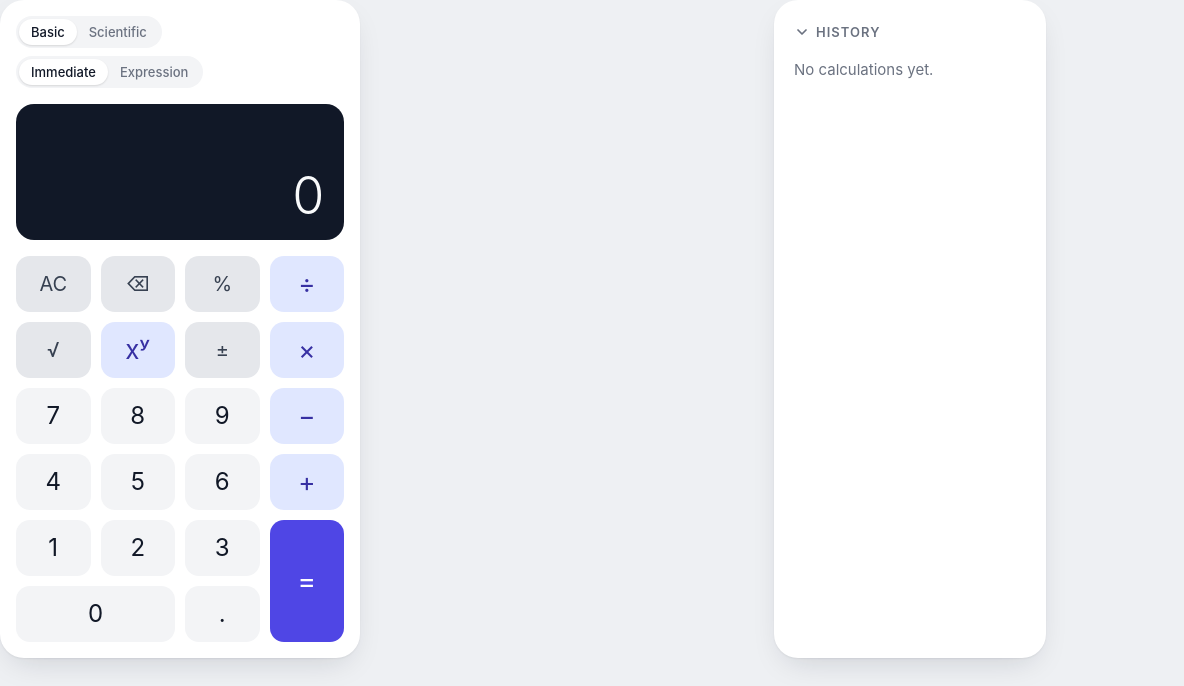
Scenario: Calculator › computes scientific functions in immediate mode
Step 1. Click the radio button labelled "Scientific" → x=118, y=32, box [77,19,159,45]
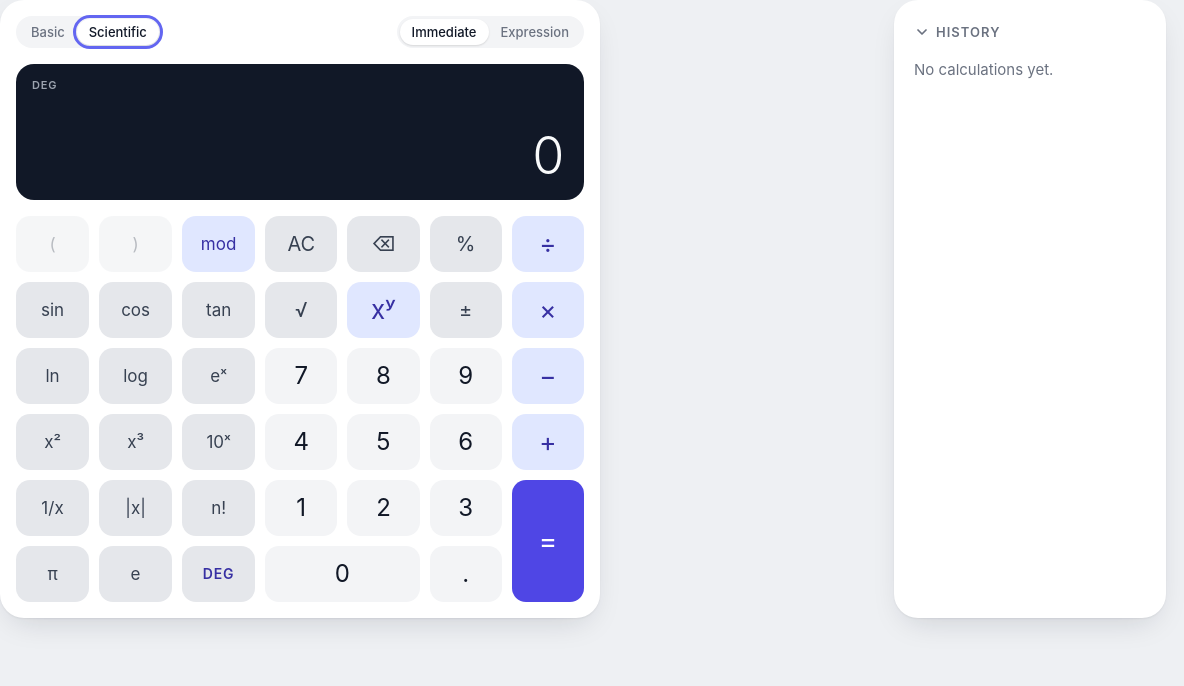
Step 2. Click the button "3" → x=466, y=508, box [430,480,502,536]
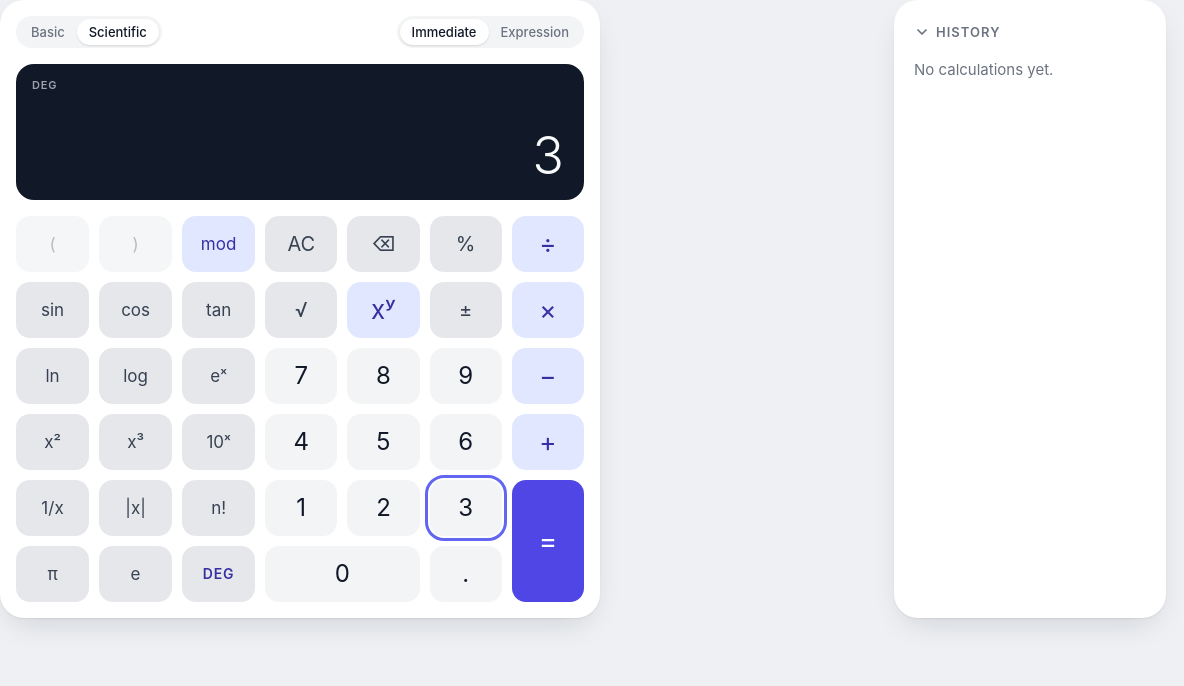
Step 3. Click the button "0" → x=342, y=574, box [265,546,420,602]
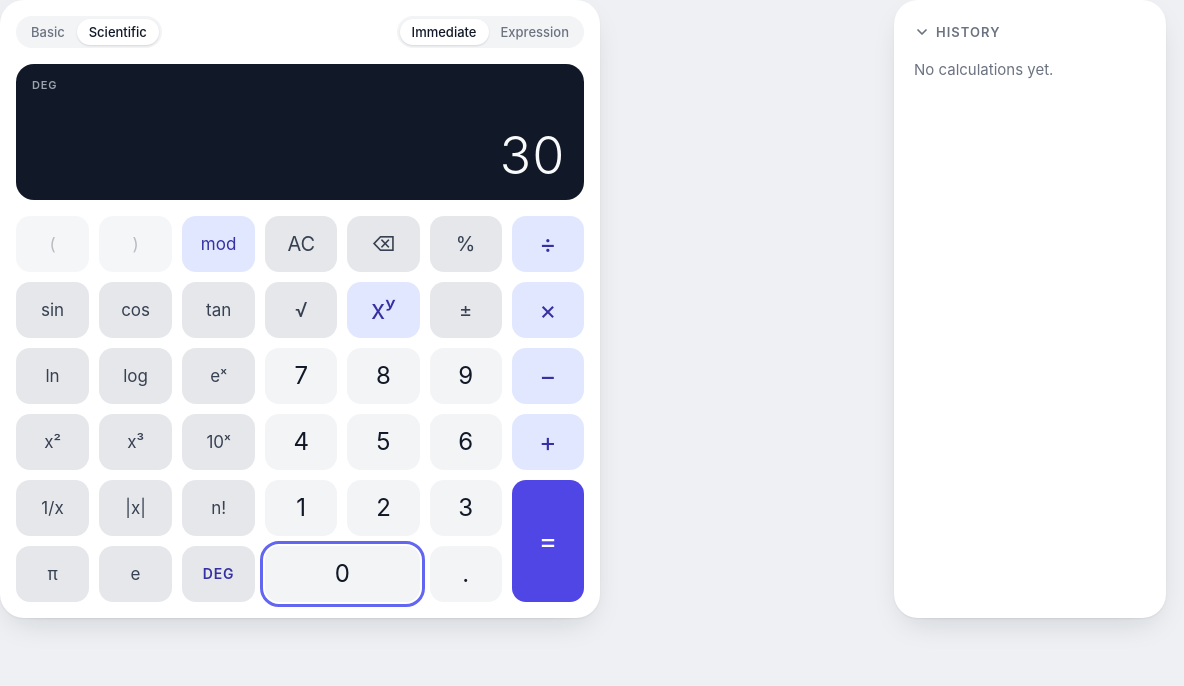
Step 4. Click the button with aria-label "Sine" → x=52, y=310, box [16,282,89,338]
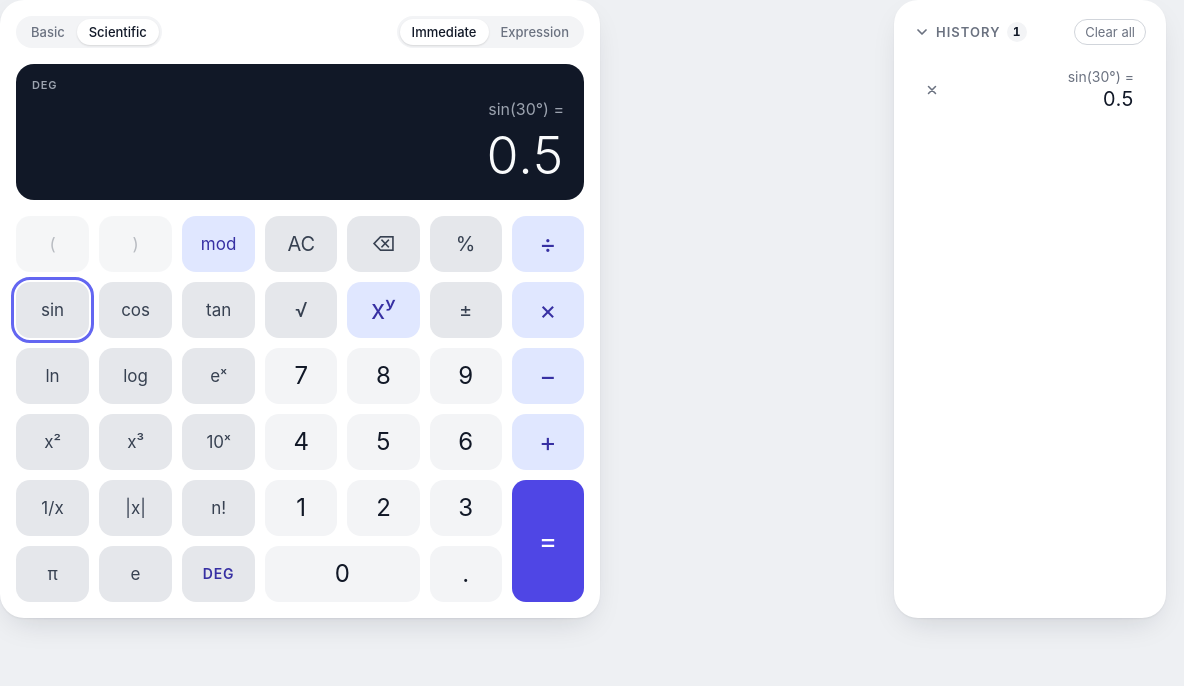
Result: the message reads "0.5" at [486,124,564,187]
Result: the text with test id "expression" reads "sin(30°) =" at [488,99,564,119]
